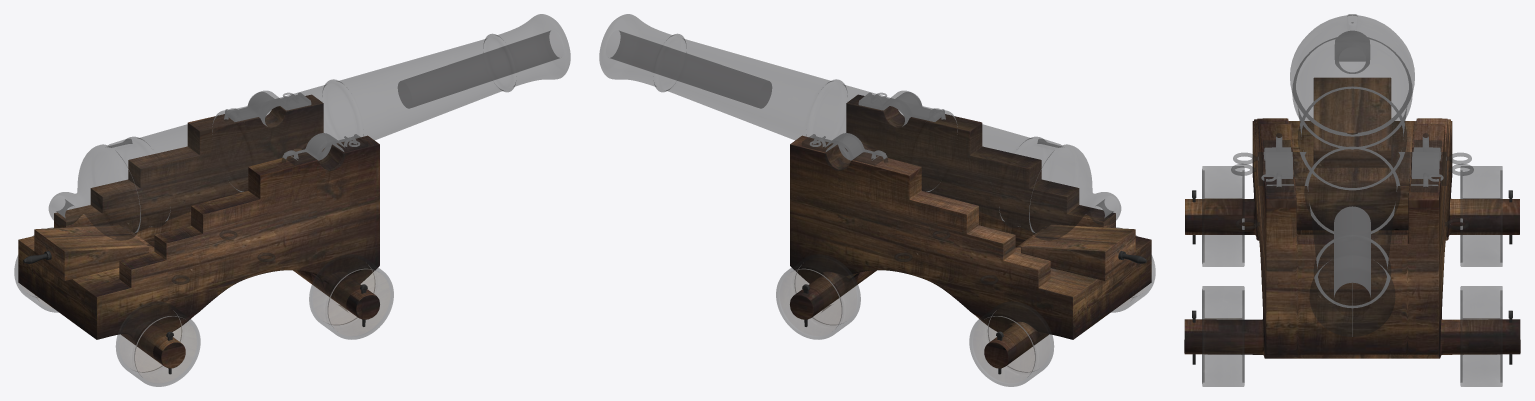
Rendered from canon.glb.
3 renders of one model, left to right at view 1: azimuth 30°, elevation 25°; view 2: azimuth 150°, elevation 25°; view 3: azimuth 270°, elevation 25°, orthographic. The views are drawn at different scales.
Visible parts, largest first — view 1: 14054_Pirate_Ship_Cannon_on_Cart_v1_l3; view 2: 14054_Pirate_Ship_Cannon_on_Cart_v1_l3; view 3: 14054_Pirate_Ship_Cannon_on_Cart_v1_l3.
Part boxes in pixels (bbox=[...]): 14054_Pirate_Ship_Cannon_on_Cart_v1_l3: bbox=[14, 14, 570, 386]; 14054_Pirate_Ship_Cannon_on_Cart_v1_l3: bbox=[599, 14, 1155, 386]; 14054_Pirate_Ship_Cannon_on_Cart_v1_l3: bbox=[1184, 14, 1520, 386].
Bounding box in the file's own units: 3.03 × 1.18 × 1.29.
3 materials, 3 textured.
